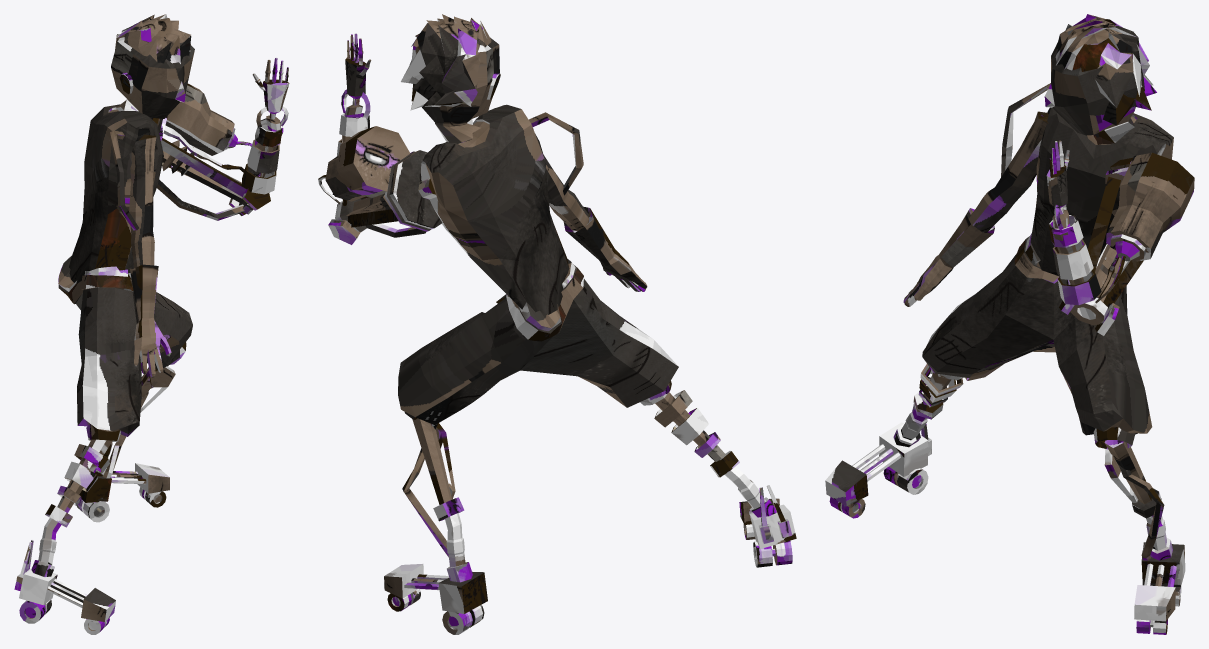
The model's file is CyborgFINALAnimation_000022.obj.
3 renders of one model, left to right at view 1: azimuth 30°, elevation 25°; view 2: azimuth 150°, elevation 25°; view 3: azimuth 270°, elevation 25°, orthographic. The views are drawn at different scales.
Parts seen in each view (by area): view 1: CyborgMesh_Cube.002; view 2: CyborgMesh_Cube.002; view 3: CyborgMesh_Cube.002.
Boxes of the visible parts, bbox=[...] form: CyborgMesh_Cube.002: bbox=[14, 14, 289, 634]; CyborgMesh_Cube.002: bbox=[318, 14, 796, 634]; CyborgMesh_Cube.002: bbox=[825, 14, 1194, 634].
Size of the model in its own units: 5.96 by 8.66 by 4.79.
